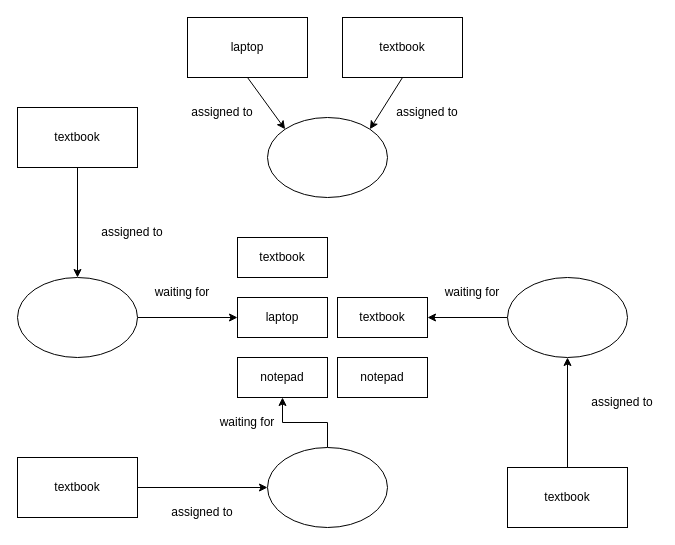
This 675x545 diagram has some shape labels left out. The centre of each missing label's shape, as x and y in pixels:
"Alvin" goes at pixel 327 487.
"Drake" goes at pixel 567 317.
"Joe" goes at pixel 327 157.
"Kaylin" goes at pixel 77 317.
